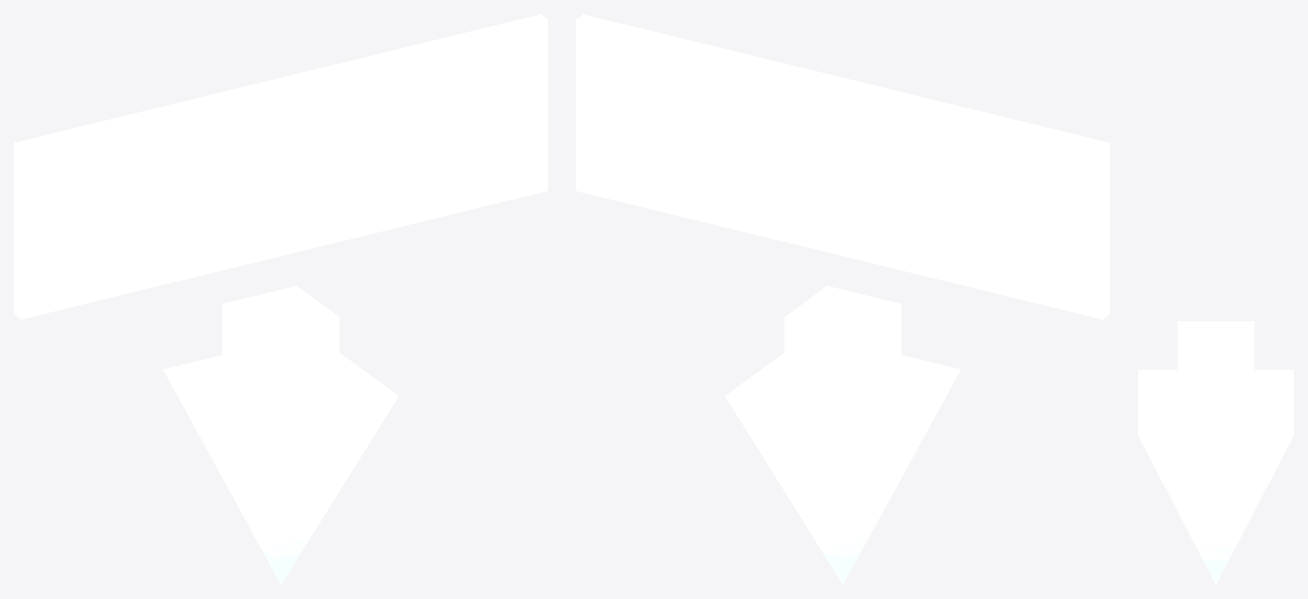
File: sfx_target_target2.glb
The picture shows the model from 3 angles, left to right: view 1: azimuth 30°, elevation 25°; view 2: azimuth 150°, elevation 25°; view 3: azimuth 270°, elevation 25°; orthographic projection. The views are drawn at different scales.
Parts seen in each view (by area): view 1: sfx_target_target2, sfx_target_target2_obj5; view 2: sfx_target_target2, sfx_target_target2_obj5; view 3: sfx_target_target2_obj5.
Part boxes in pixels (x1,y1,x2,y2): sfx_target_target2: [14, 14, 547, 319]; sfx_target_target2_obj5: [163, 286, 398, 584]; sfx_target_target2: [576, 14, 1109, 319]; sfx_target_target2_obj5: [725, 286, 960, 584]; sfx_target_target2_obj5: [1138, 321, 1293, 584].
Bounding box in the file's own units: 1.02 × 0.9348 × 0.2903.
2 materials, 2 textured.
